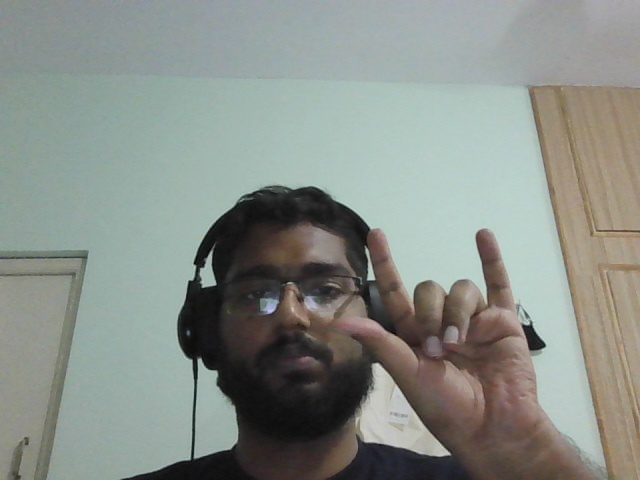I Love You: (320, 212, 570, 456)
